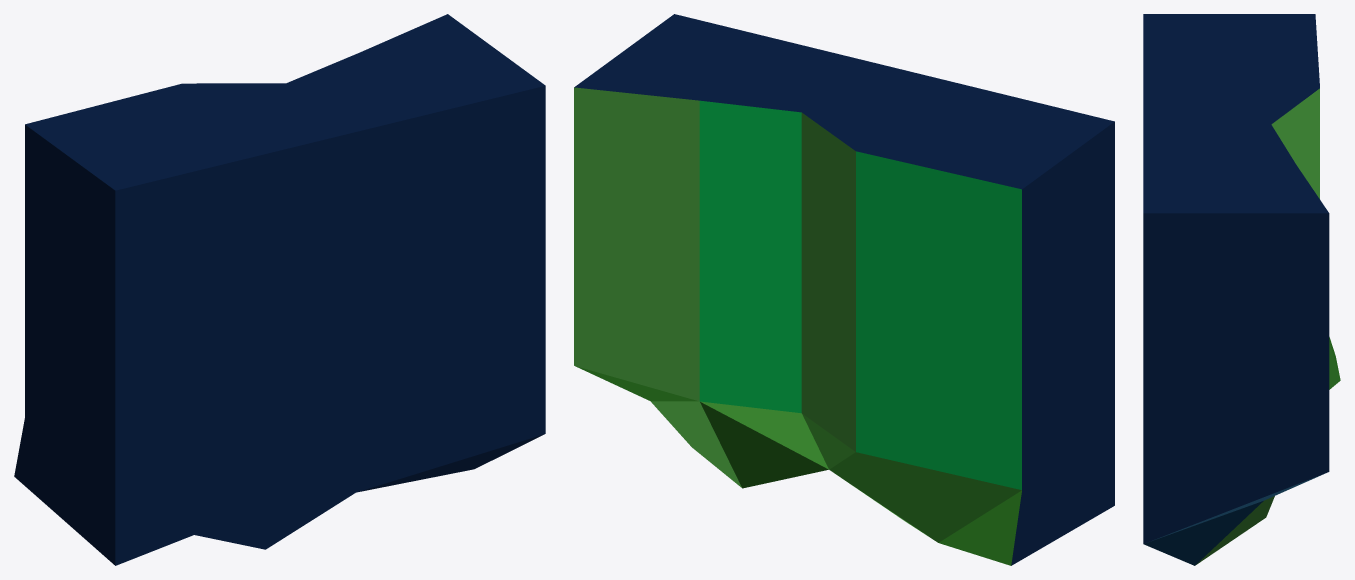
The model's file is guard_middle_f_1.fbx.
3 renders of one model, left to right at view 1: azimuth 30°, elevation 25°; view 2: azimuth 150°, elevation 25°; view 3: azimuth 270°, elevation 25°, orthographic. The views are drawn at different scales.
Visible parts, largest first — view 1: Cube.005; view 2: Cube.005; view 3: Cube.005.
Boxes of the visible parts, x1,y1,x2,y2 form: Cube.005: (14, 14, 545, 565); Cube.005: (574, 14, 1114, 565); Cube.005: (1143, 14, 1340, 565).
Bounding box in the file's own units: 1019 × 895 × 426.
